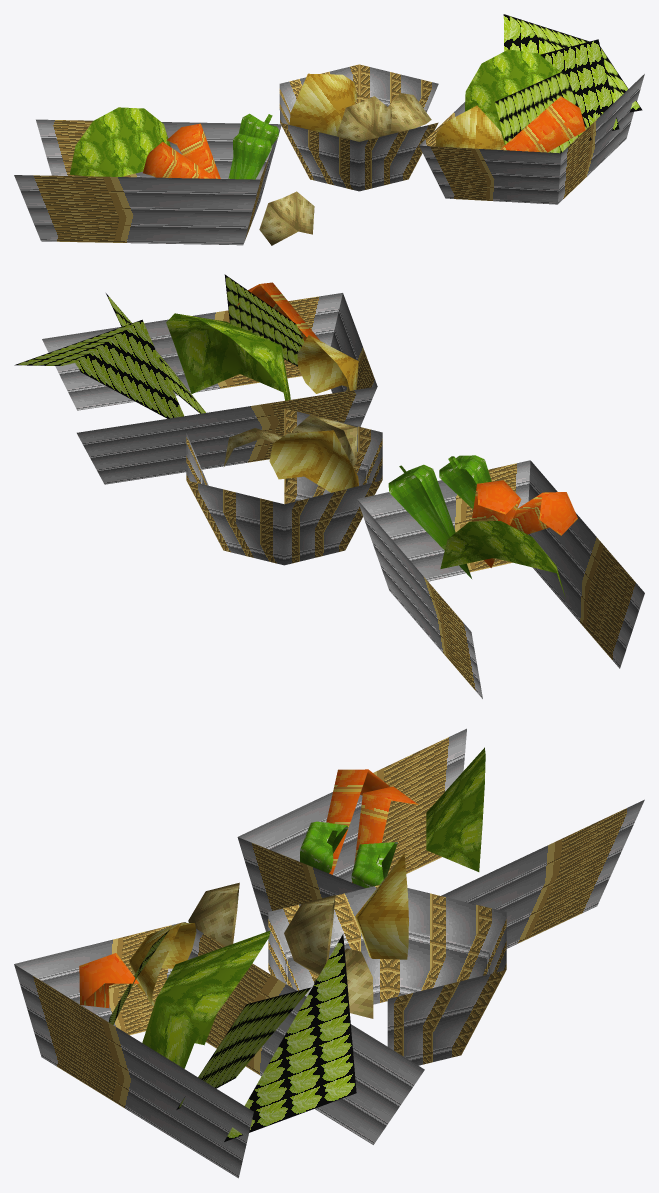
The model's file is 1064item535.gltf.
The picture shows the model from 3 angles, top to bottom: view 1: azimuth 30°, elevation 25°; view 2: azimuth 150°, elevation 25°; view 3: azimuth 270°, elevation 25°; orthographic projection. The views are drawn at different scales.
Parts seen in each view (by area): view 1: 1064item535; view 2: 1064item535; view 3: 1064item535.
Boxes of the visible parts, bbox=[...] form: 1064item535: bbox=[14, 14, 644, 245]; 1064item535: bbox=[14, 274, 644, 698]; 1064item535: bbox=[14, 728, 644, 1178].
Bounding box in the file's own units: 2.52 × 0.6775 × 1.64.
Materials: 7 (7 with a texture image).
